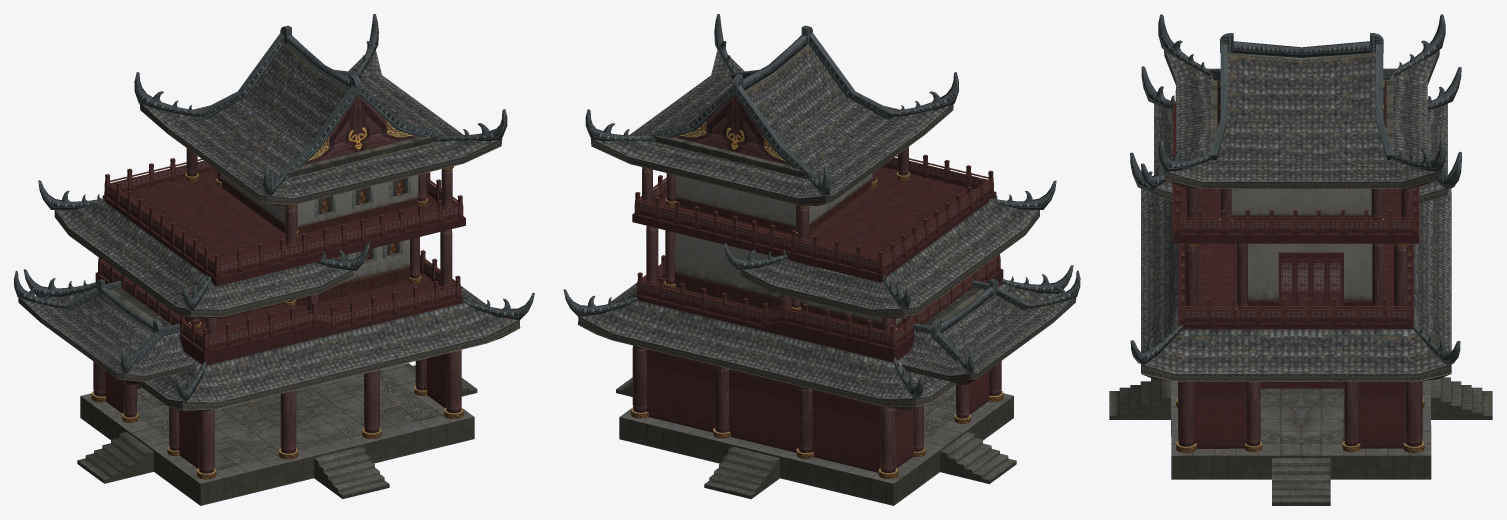
File: q01c_building_001.FBX
The picture shows the model from 3 angles, left to right: view 1: azimuth 30°, elevation 25°; view 2: azimuth 150°, elevation 25°; view 3: azimuth 270°, elevation 25°; orthographic projection. The views are drawn at different scales.
Visible parts, largest first — view 1: q01c_building_001_02, q01c_building_001_08, q01c_building_001_01, q01c_building_001_09, q01c_building_001_06, q01c_building_001_11, q01c_building_001_04, q01c_building_001_05, q01c_building_001_10, q01c_building_001_07; view 2: q01c_building_001_02, q01c_building_001_01, q01c_building_001_10, q01c_building_001_06, q01c_building_001_08, q01c_building_001_11, q01c_building_001_05, q01c_building_001_04, q01c_building_001_09; view 3: q01c_building_001_02, q01c_building_001_11, q01c_building_001_01, q01c_building_001_08, q01c_building_001_06, q01c_building_001_04, q01c_building_001_05, q01c_building_001_09, q01c_building_001_10, q01c_building_001_07.
Part boxes in pixels (box(x1,y1,x2,y2)): q01c_building_001_02: box(18, 44, 520, 410); q01c_building_001_08: box(95, 170, 465, 365); q01c_building_001_01: box(14, 14, 534, 401); q01c_building_001_09: box(81, 364, 473, 483); q01c_building_001_06: box(97, 158, 463, 351); q01c_building_001_11: box(77, 363, 477, 505); q01c_building_001_04: box(91, 148, 463, 479); q01c_building_001_05: box(178, 173, 418, 323); q01c_building_001_10: box(105, 353, 446, 468); q01c_building_001_07: box(314, 176, 410, 263); q01c_building_001_02: box(578, 43, 1076, 407); q01c_building_001_01: box(563, 14, 1080, 398); q01c_building_001_10: box(646, 349, 989, 472); q01c_building_001_06: box(634, 154, 1000, 348); q01c_building_001_08: box(632, 167, 1003, 362); q01c_building_001_11: box(616, 377, 1016, 505); q01c_building_001_05: box(674, 174, 907, 329); q01c_building_001_04: box(631, 147, 1003, 478); q01c_building_001_09: box(620, 385, 1013, 483); q01c_building_001_02: box(1141, 50, 1451, 381); q01c_building_001_11: box(1109, 377, 1492, 505); q01c_building_001_01: box(1130, 14, 1461, 365); q01c_building_001_08: box(1173, 103, 1419, 329); q01c_building_001_06: box(1175, 86, 1417, 323); q01c_building_001_04: box(1176, 187, 1424, 452); q01c_building_001_05: box(1231, 189, 1372, 308); q01c_building_001_09: box(1171, 380, 1431, 455); q01c_building_001_10: box(1194, 381, 1405, 448); q01c_building_001_07: box(1278, 252, 1343, 308).
Size of the model in its own units: 3176 by 2803 by 2458.
